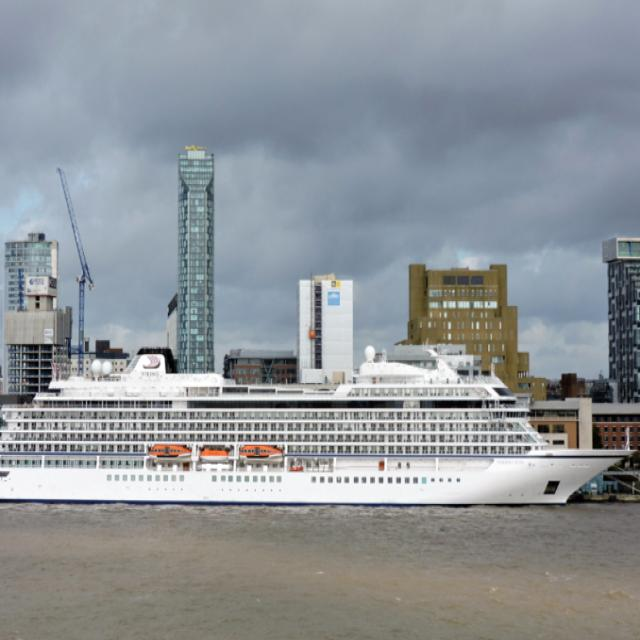cruises: (1, 338, 640, 517)
